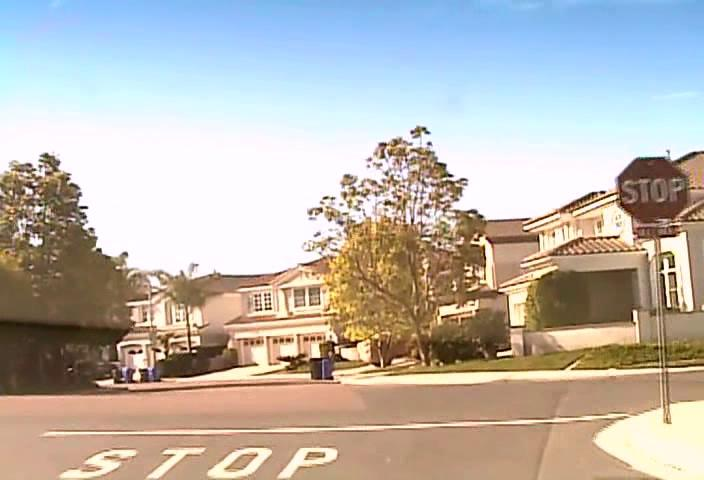stop: (615, 156, 690, 226)
